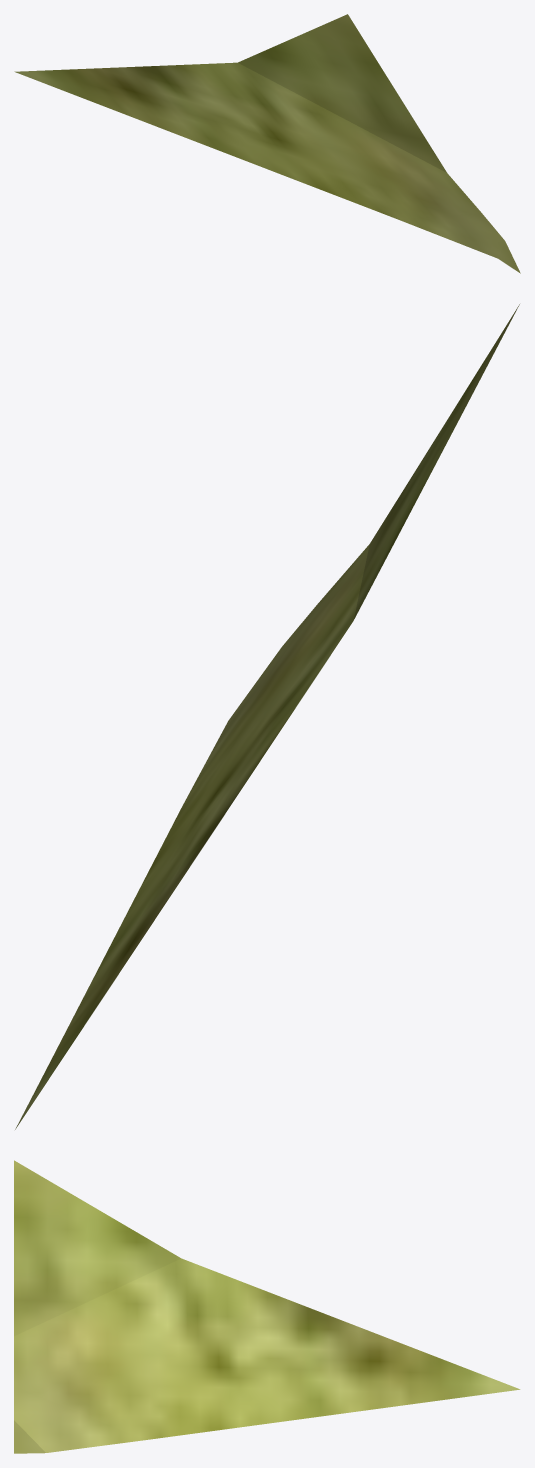
3 views of the same model, one above another, from view 1: azimuth 30°, elevation 25°; view 2: azimuth 150°, elevation 25°; view 3: azimuth 270°, elevation 25° (orthographic). The views are drawn at different scales.
Bounding box in the file's own units: 0.1651 × 0.2752 × 0.5513.
Materials: 1 (1 with a texture image).
